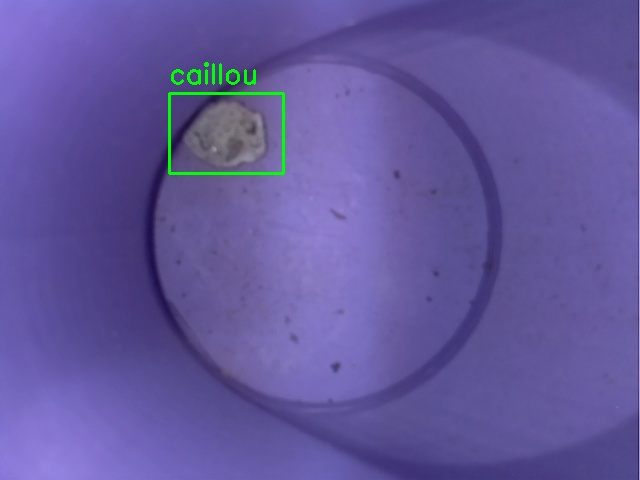caillou: (169, 93, 283, 173)
